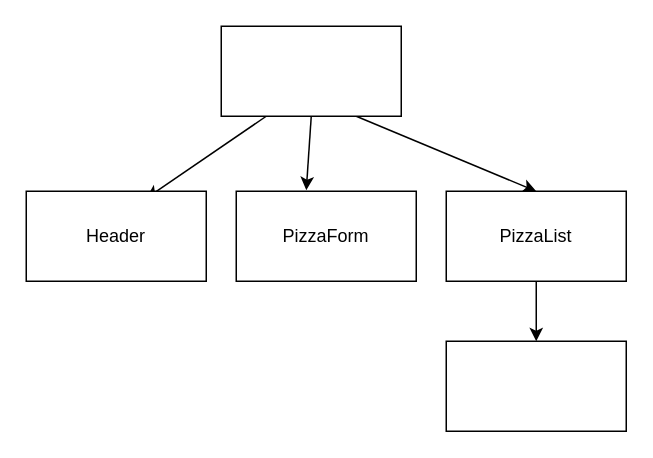
Image size: 653x458. Some labels were removed from this diagram. Here are the shapes that lost their labels. From the top down, the centre of each, then its label:
the point at 310,70: App
the point at 535,385: Pizza
